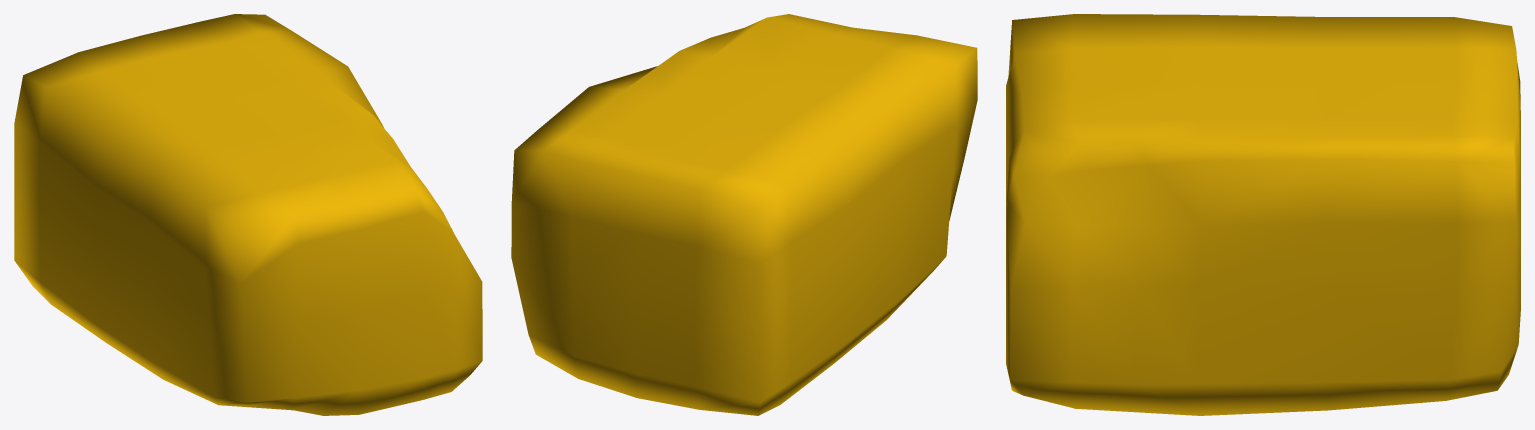
Rendered from Stone_Block_02_Lod0.fbx.
3 views of the same model, side by side, from view 1: azimuth 30°, elevation 25°; view 2: azimuth 150°, elevation 25°; view 3: azimuth 270°, elevation 25° (orthographic). The views are drawn at different scales.
Parts seen in each view (by area): view 1: Stone_Block_02_Lod0; view 2: Stone_Block_02_Lod0; view 3: Stone_Block_02_Lod0.
Boxes of the visible parts, x1,y1,x2,y2 form: Stone_Block_02_Lod0: [14, 14, 482, 415]; Stone_Block_02_Lod0: [511, 14, 977, 415]; Stone_Block_02_Lod0: [1006, 14, 1520, 415].
Size of the model in its own units: 629 by 535 by 949.
